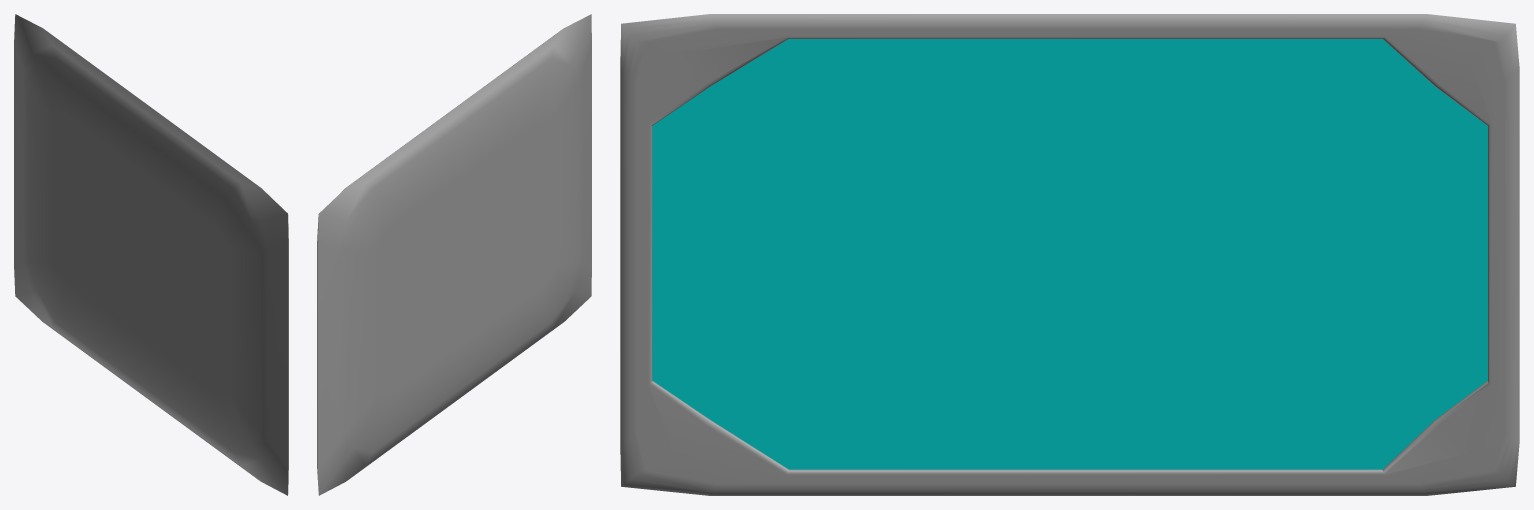
Rendered from WallScreen.fbx.
3 renders of one model, left to right at view 1: azimuth 30°, elevation 25°; view 2: azimuth 150°, elevation 25°; view 3: azimuth 270°, elevation 25°, orthographic. The views are drawn at different scales.
Visible parts, largest first — view 1: pCube643; view 2: pCube643; view 3: pCube643.
Part boxes in pixels (x1,y1,x2,y2): pCube643: [14, 14, 288, 495]; pCube643: [317, 14, 591, 495]; pCube643: [620, 14, 1519, 495].
Size of the model in its own units: 0.0546 by 1.18 by 2.
